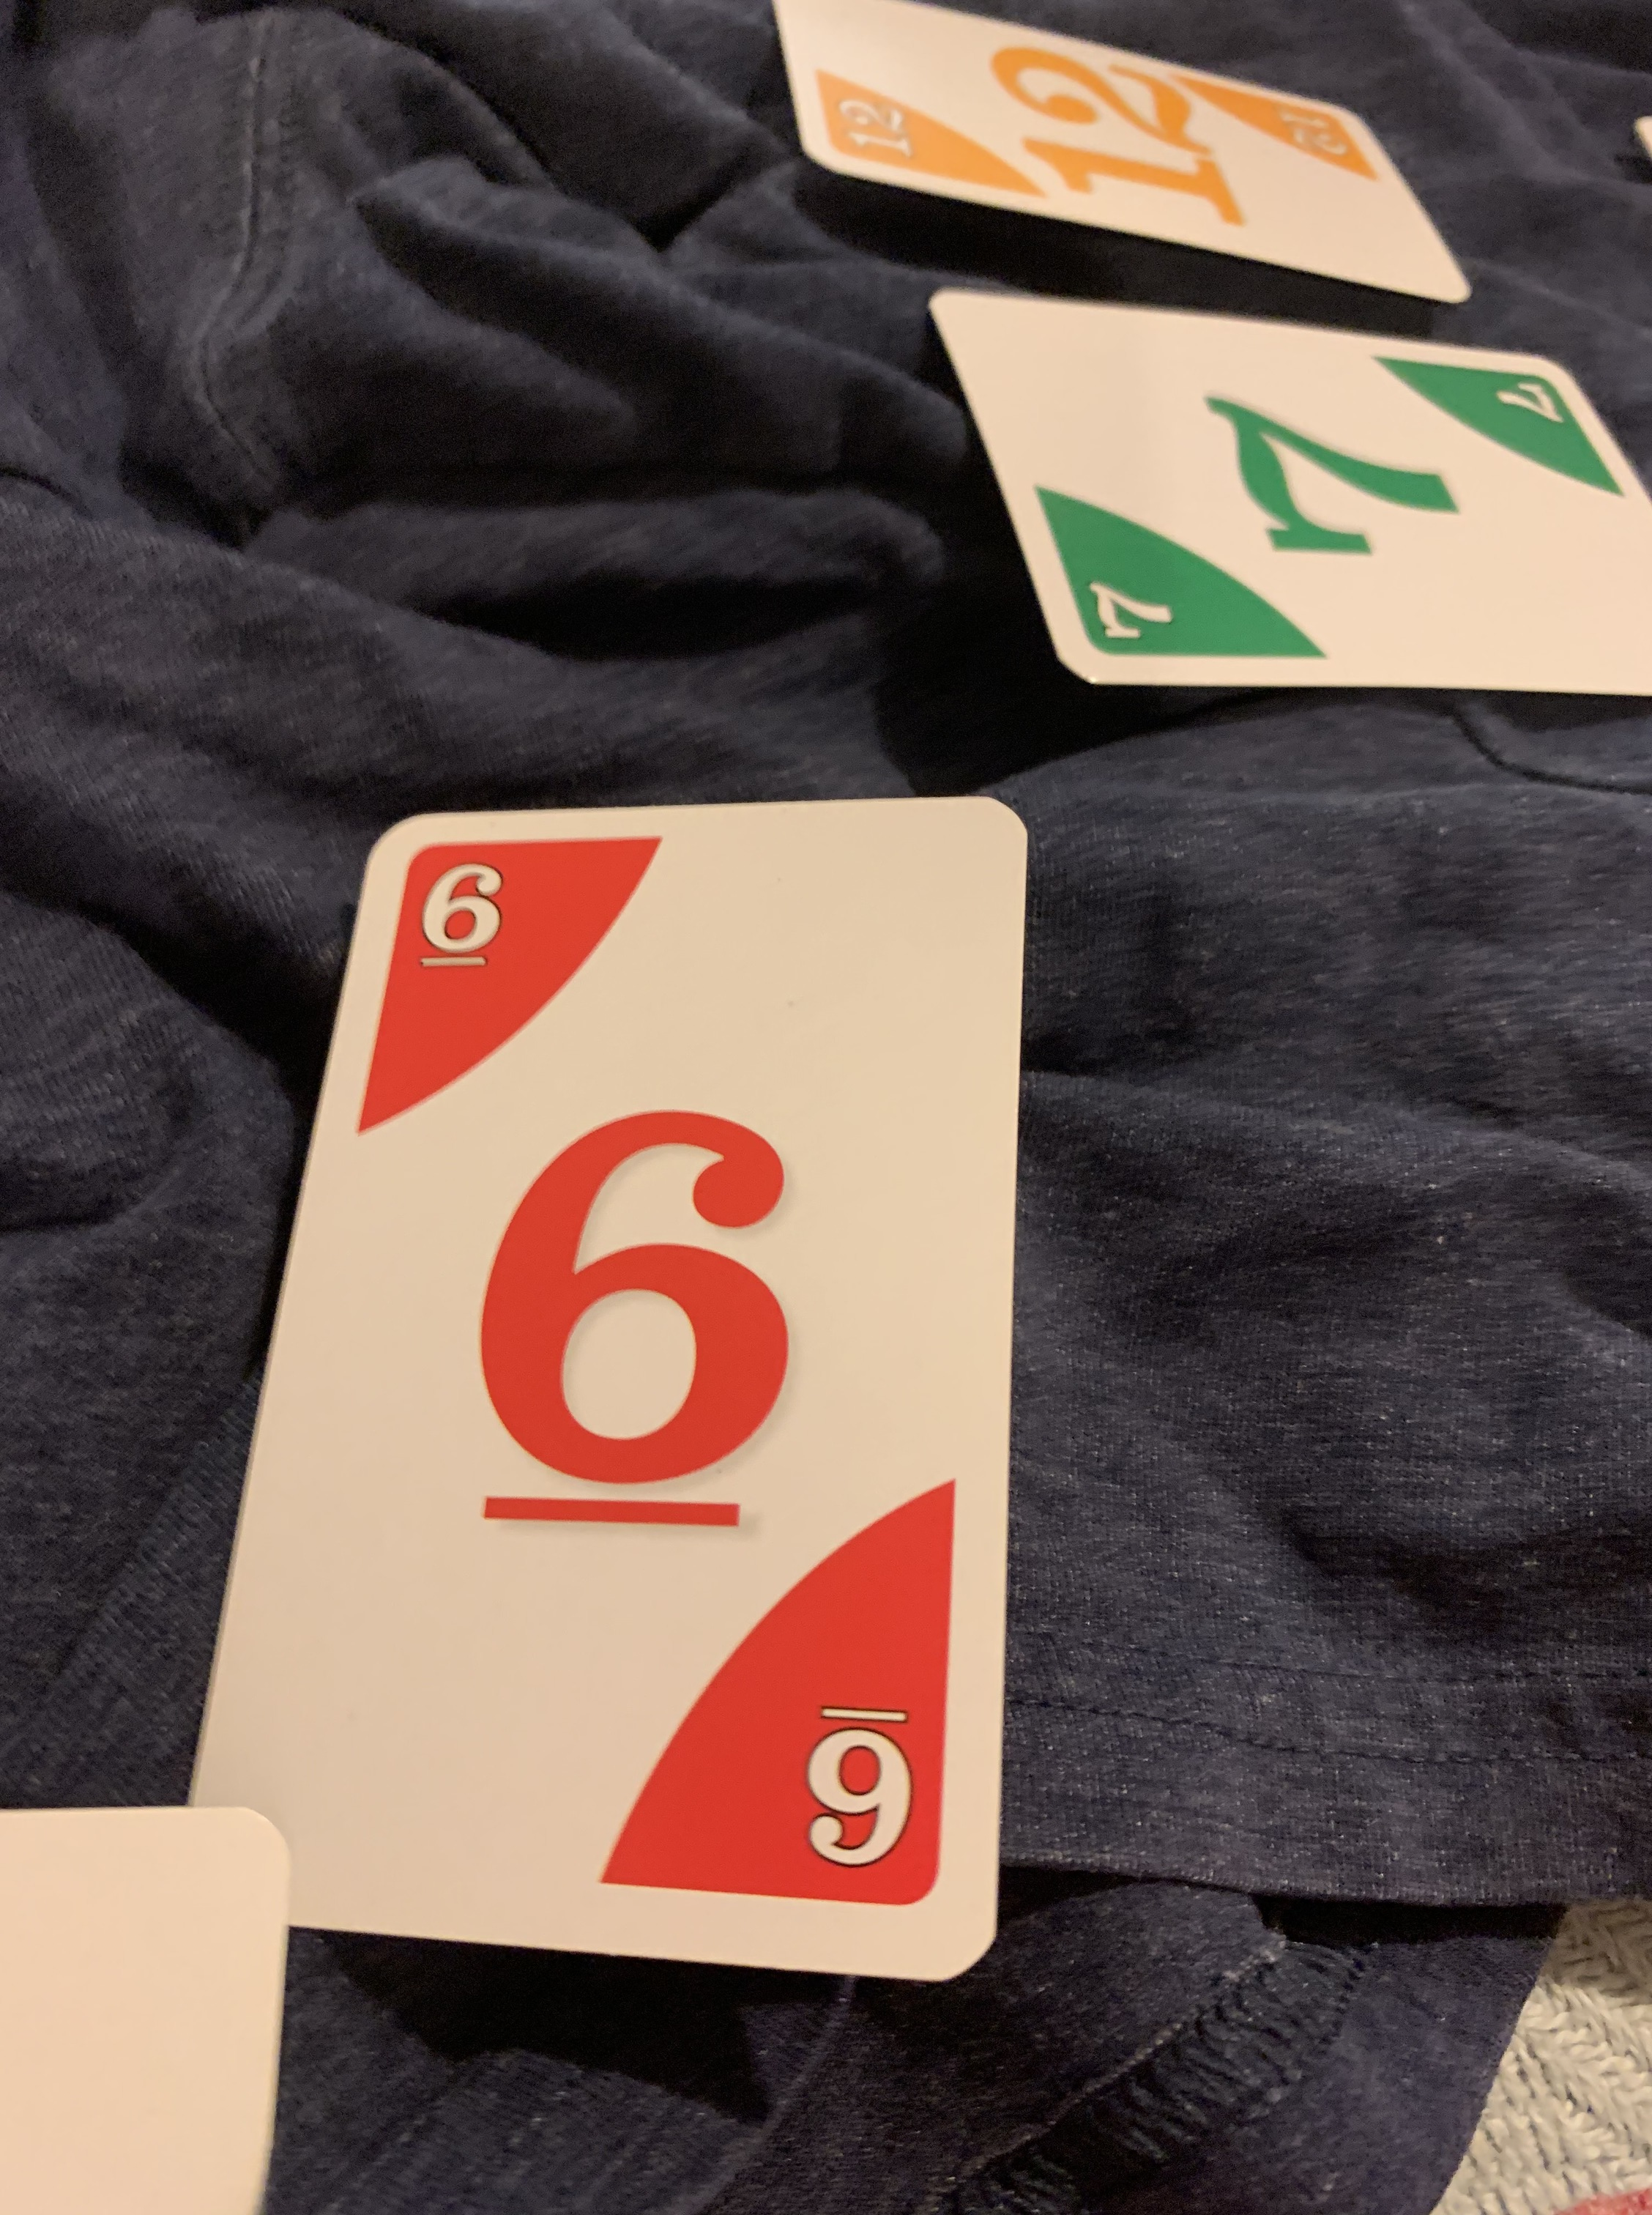seven: (915, 281, 1652, 726)
six: (156, 769, 1074, 2007)
